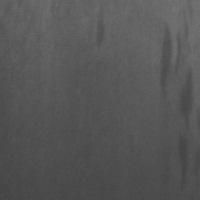inclusion: (157, 11, 198, 191), (84, 5, 109, 50)
